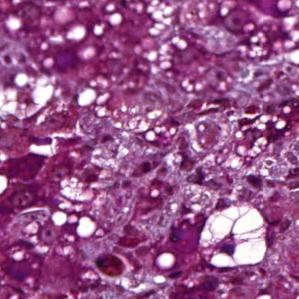ballooning: (198, 202, 270, 272), (0, 68, 58, 123)
